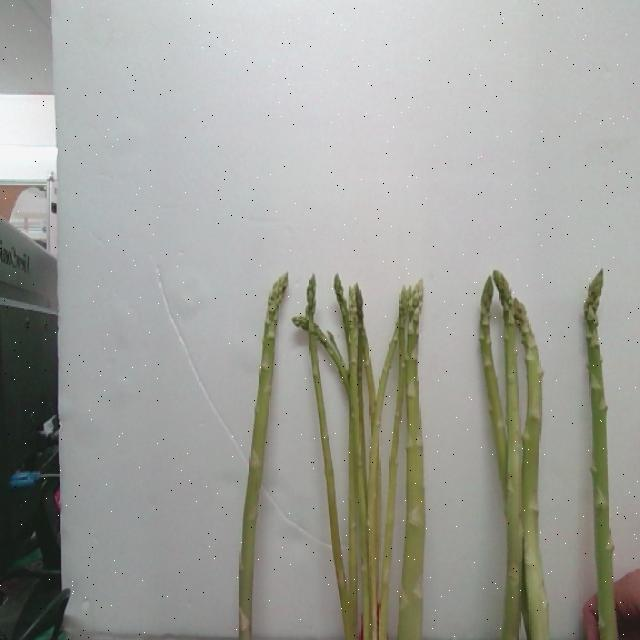aspargus: (236, 277, 288, 640), (513, 294, 552, 640), (582, 273, 618, 640)
